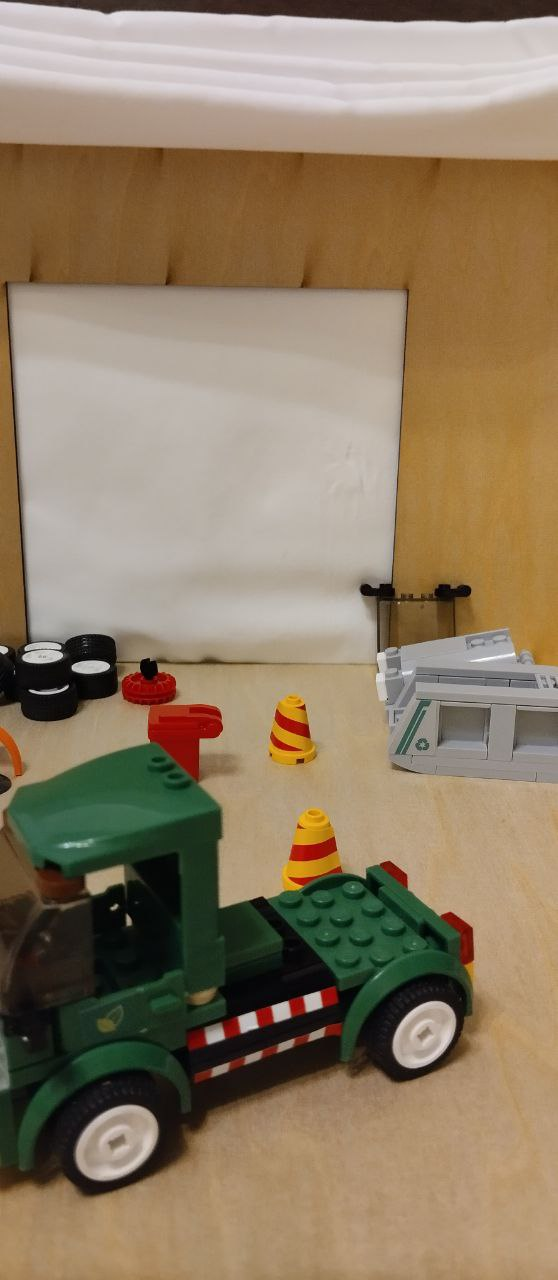Cone: (274, 808, 363, 899), (266, 696, 324, 764)
Object Red: (143, 697, 236, 793)
Truck: (0, 730, 488, 1198)
